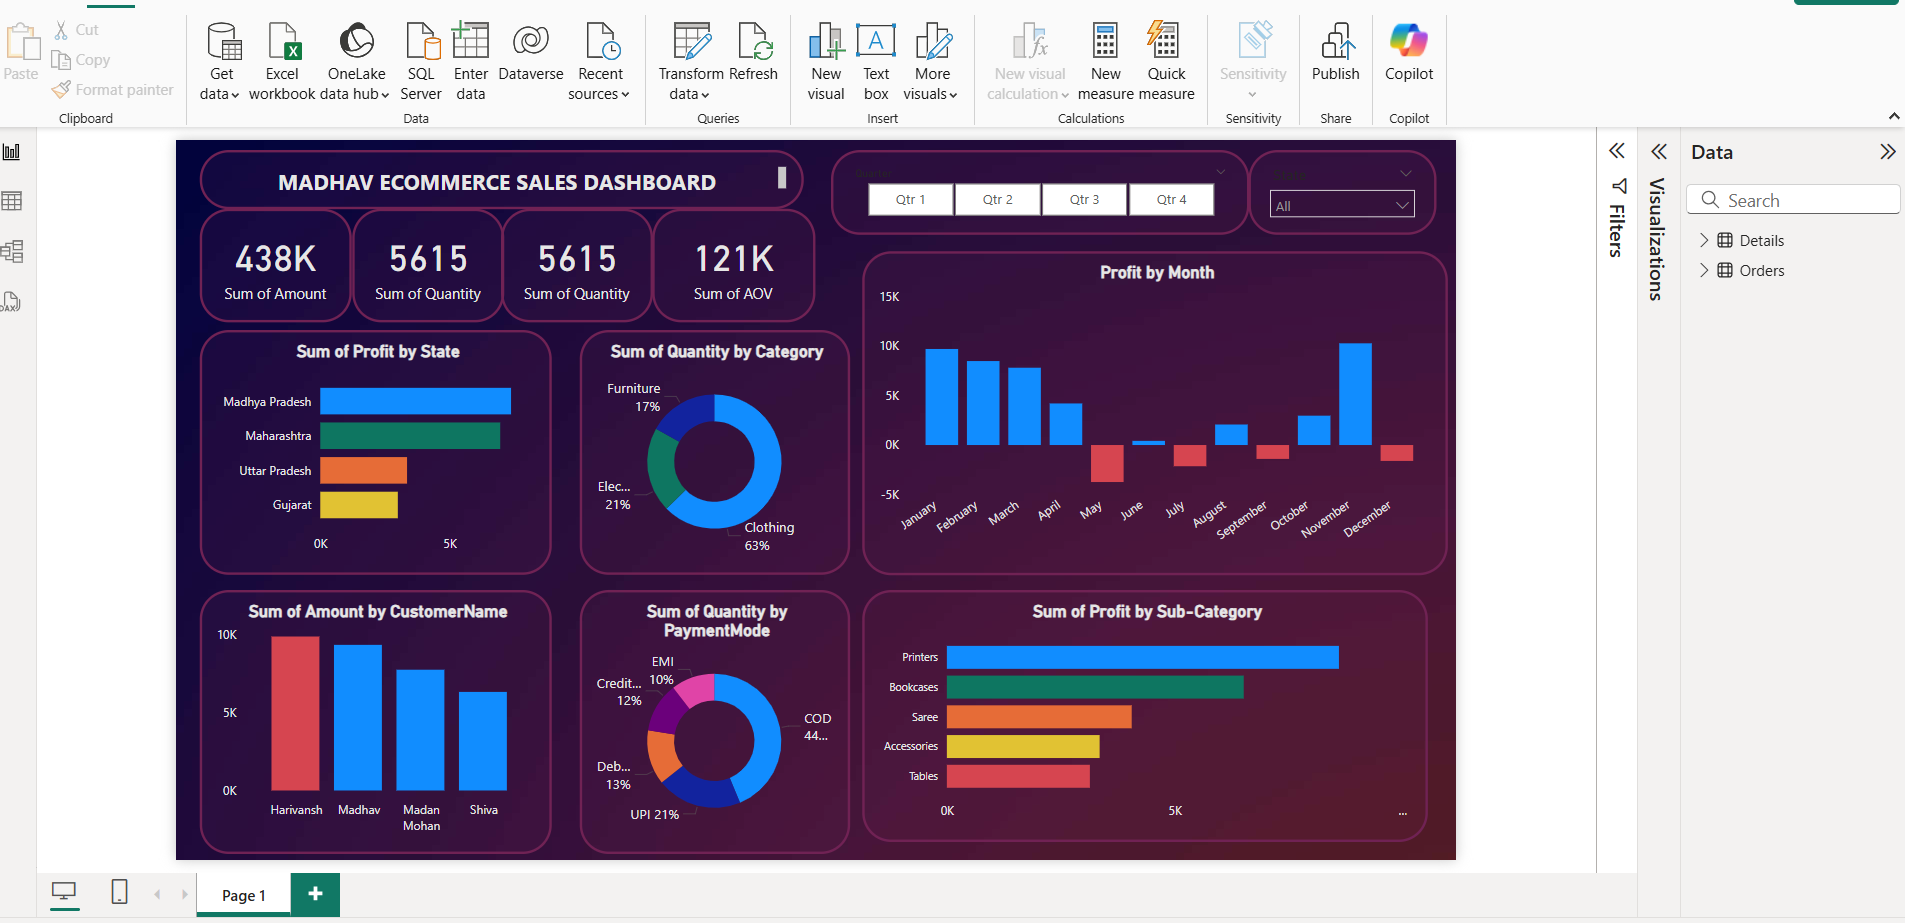

What the dashboard file says about the page in this screenshot:
{"tool":"powerbi","page":{"name":"Page 1","canvas":[1280,720],"ordinal":0},"visuals":[{"type":"textbox","box":[23.3,9.6,603.8,59],"z":0},{"type":"columnChart","title":"Profit by Month","fields":{"Y":["Details.Profit"],"Category":["Orders.Order Date.Variation.Date Hierarchy.Month"]},"box":[686.1,111.1,585.9,323.8],"z":1000},{"type":"barChart","fields":{"Y":["Details.Profit"],"Category":["Details.Sub-Category"]},"box":[686.5,450,565.8,252.1],"z":2000},{"type":"donutChart","fields":{"Category":["Details.Category"],"Y":["Details.Quantity"]},"box":[404.2,190.6,270.2,244.9],"z":3000},{"type":"donutChart","fields":{"Y":["Details.Quantity"],"Category":["Details.PaymentMode"]},"box":[404.2,450,270.2,264.2],"z":4000},{"type":"card","fields":{"Values":["Details.Amount"]},"box":[24.1,68.8,152,113.4],"z":5000},{"type":"card","fields":{"Values":["Details.Quantity"]},"box":[176.1,68.8,152,113.4],"z":6000},{"type":"card","fields":{"Values":["Details.Quantity"]},"box":[324.5,68.8,152,113.4],"z":7000},{"type":"card","fields":{"Values":["Details.AOV"]},"box":[476.2,68.6,163.3,113.9],"z":8000},{"type":"barChart","fields":{"Category":["Orders.State"],"Y":["Details.Profit"]},"box":[24.1,190.6,352.3,244.9],"z":9000},{"type":"columnChart","fields":{"Category":["Orders.CustomerName"],"Y":["Details.Amount"]},"box":[24,450,352,264],"z":10000},{"type":"slicer","fields":{"Values":["Orders.Order Date.Variation.Date Hierarchy.Quarter"]},"box":[654.5,9.6,418.5,85.1],"z":11000},{"type":"slicer","fields":{"Values":["Orders.State"]},"box":[1073.1,9.6,188,85.1],"z":12000}]}

Visuals, with their boxes on the page's 1280x720 design canvas (x1, y1, x2, y2). These are canvas units, not pixel positions in the 1905x923 screenshot, which may show the page scaled, cropped or inside an application window:
textbox: <region>23, 10, 627, 69</region>
"Profit by Month" columnChart: <region>686, 111, 1272, 435</region>
barChart - Details.Profit x Details.Sub-Category: <region>686, 450, 1252, 702</region>
donutChart - Details.Category x Details.Quantity: <region>404, 191, 674, 436</region>
donutChart - Details.Quantity x Details.PaymentMode: <region>404, 450, 674, 714</region>
card - Details.Amount: <region>24, 69, 176, 182</region>
card - Details.Quantity: <region>176, 69, 328, 182</region>
card - Details.Quantity: <region>324, 69, 476, 182</region>
card - Details.AOV: <region>476, 69, 640, 182</region>
barChart - Orders.State x Details.Profit: <region>24, 191, 376, 436</region>
columnChart - Orders.CustomerName x Details.Amount: <region>24, 450, 376, 714</region>
slicer - Orders.Order Date.Variation.Date Hierarchy.Quarter: <region>654, 10, 1073, 95</region>
slicer - Orders.State: <region>1073, 10, 1261, 95</region>
